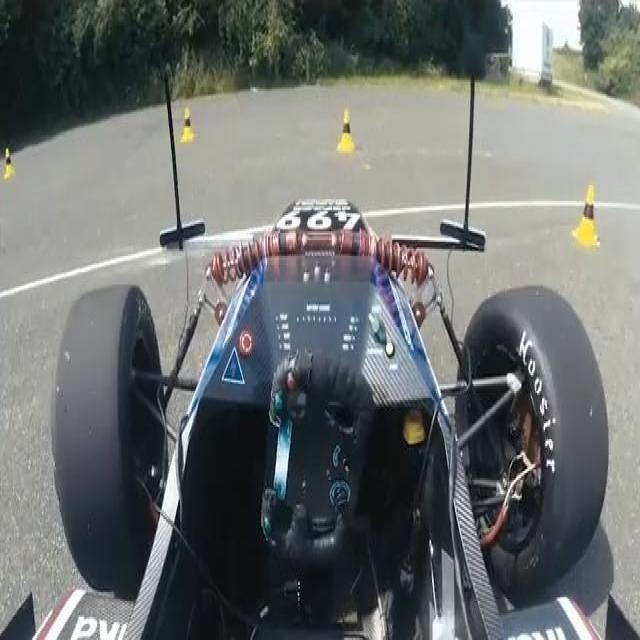yellow_cone: (567, 181, 603, 249), (335, 102, 359, 162), (175, 105, 197, 149), (2, 140, 16, 174)
